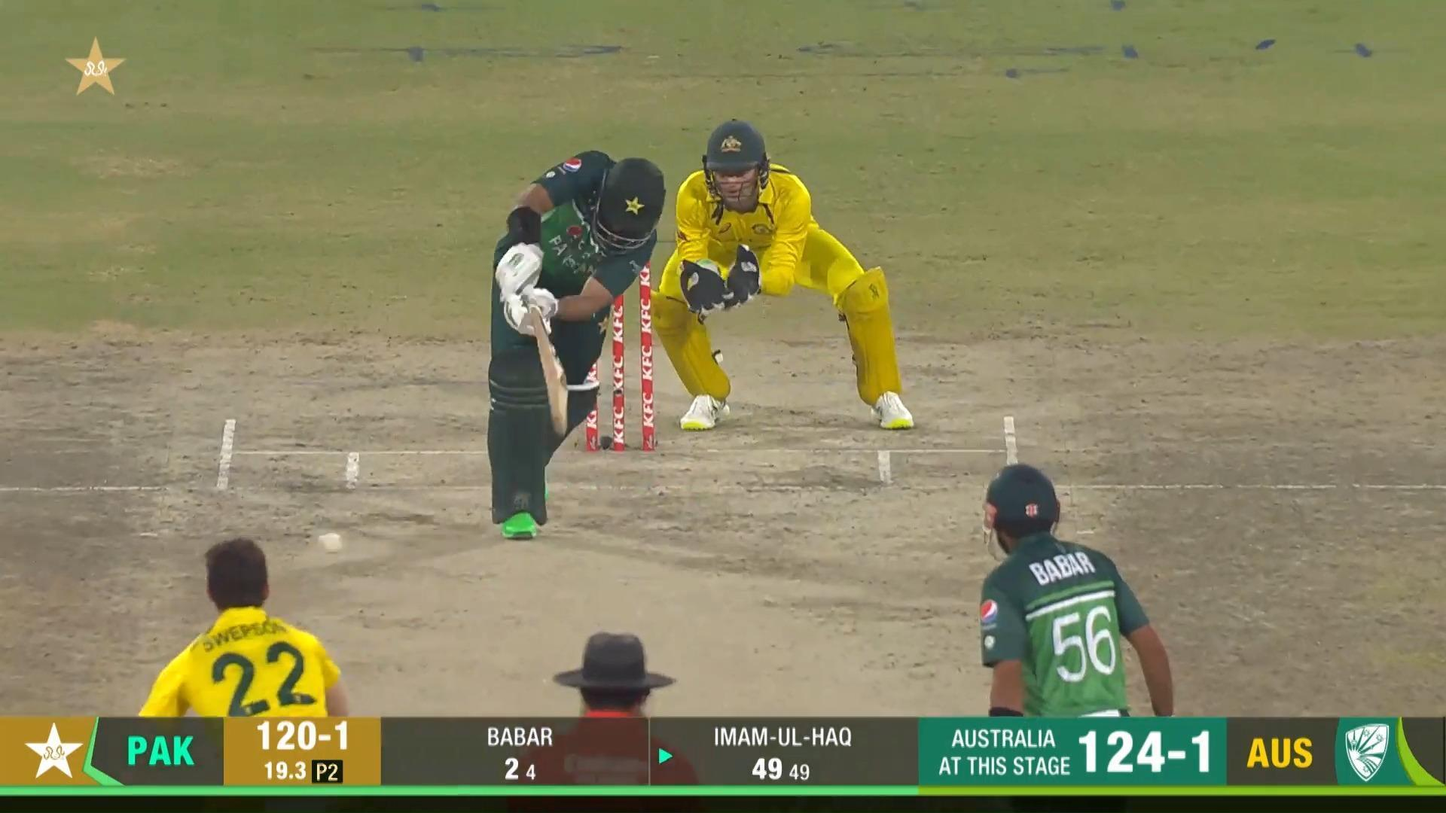BM 1: (484, 147, 668, 542)
BO: (140, 535, 352, 718)
